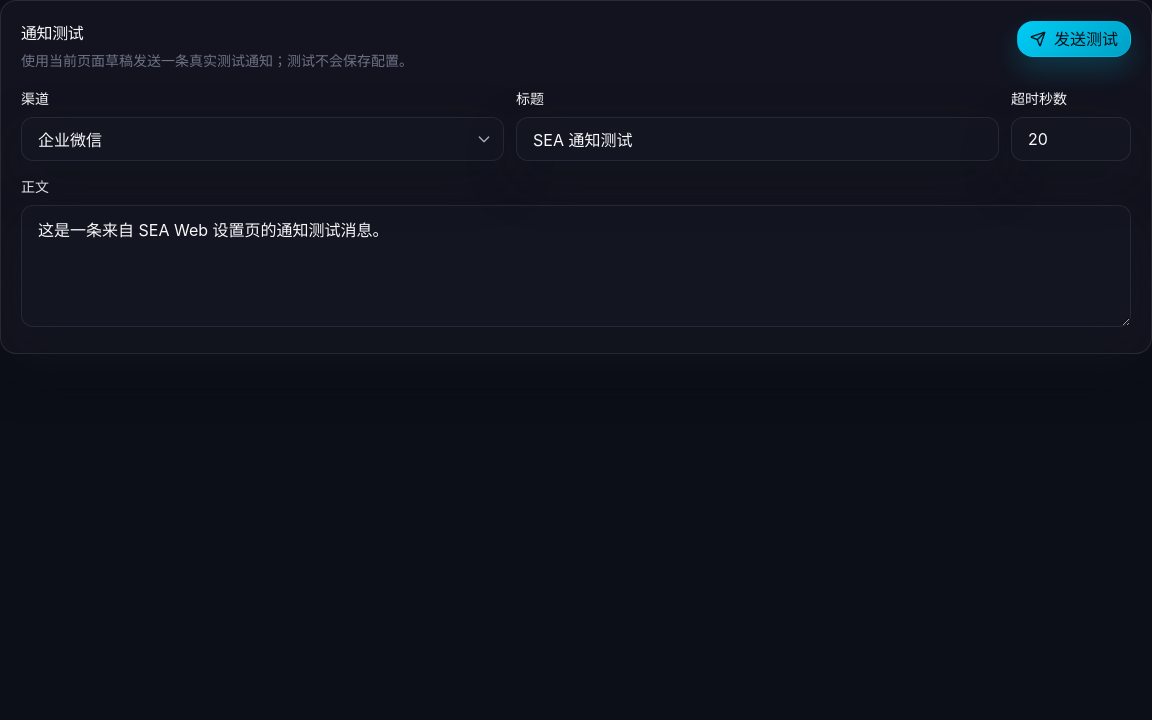
Test: NotificationTestPanel › renders custom webhook partial failure attempts
The width and height of the screenshot is (1152, 720).
Select "自定义 Webhook" in the dropdown labelled "渠道" at (262, 139), box [21,117,504,161]
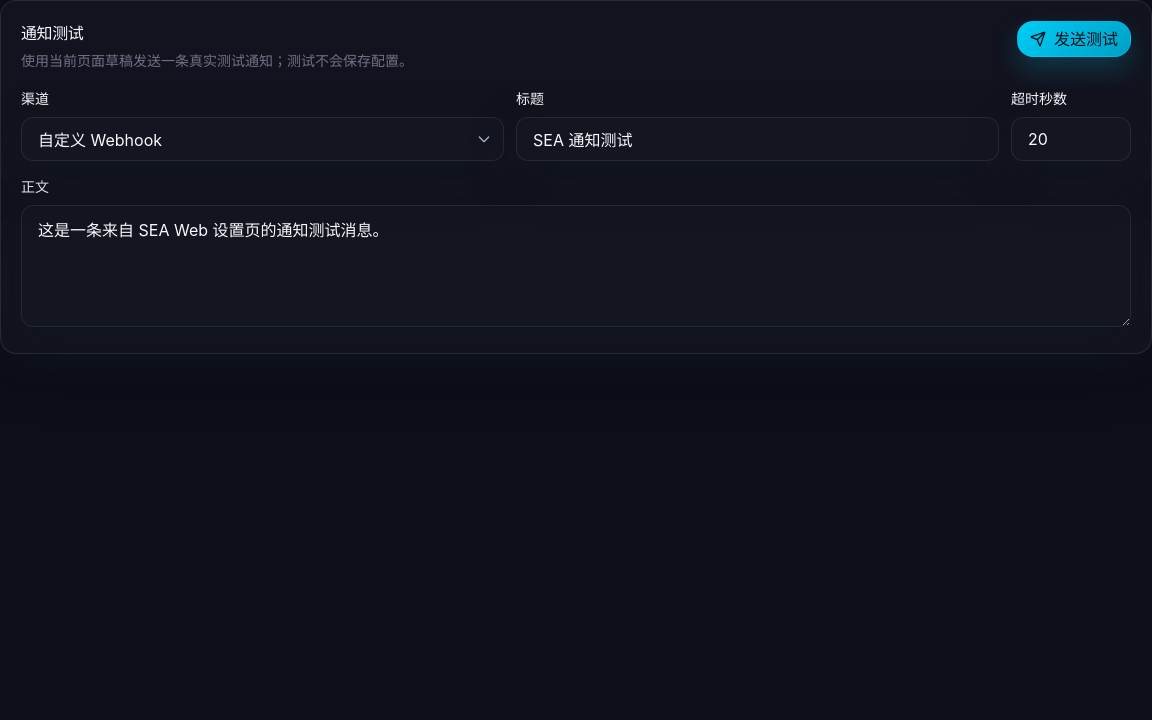
Click the button "发送测试" at (1074, 39), box [1017,21,1131,57]
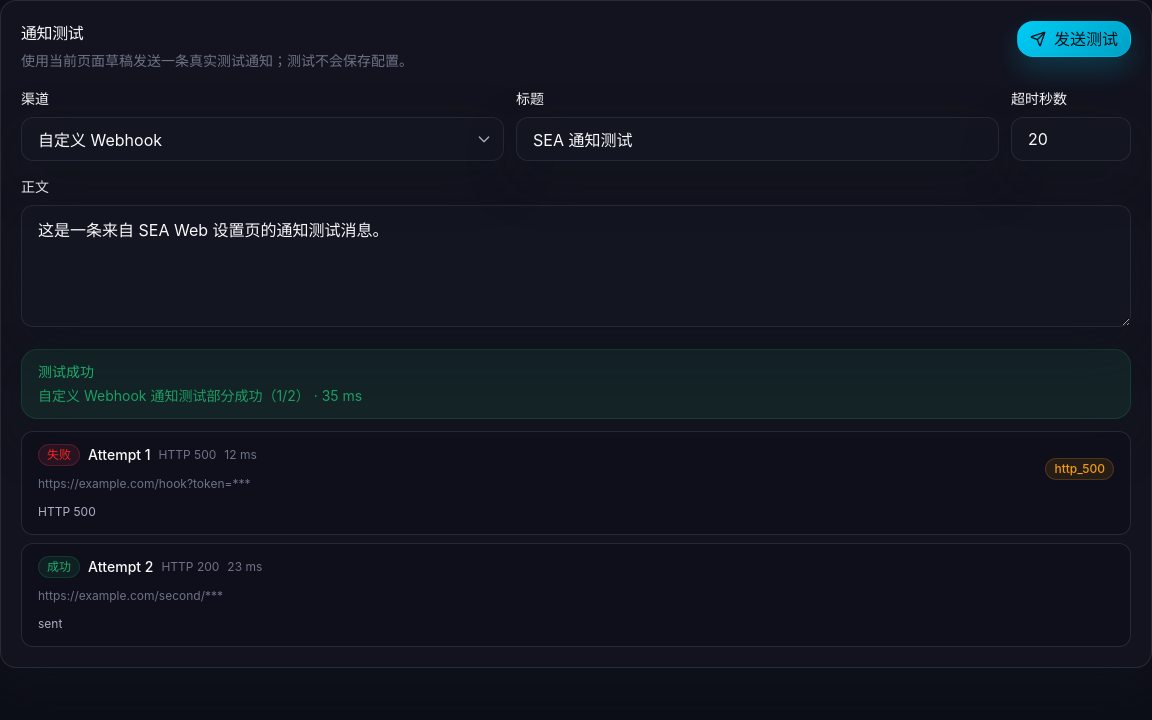
expect the text "测试成功" is shown: met, box [38,363,94,380]
expect the text "自定义 Webhook 通知测试部分成功（1/2） · 35 ms" is shown: met, box [38,387,362,404]
expect the text "HTTP 200" is shown: met, box [161,559,219,575]
